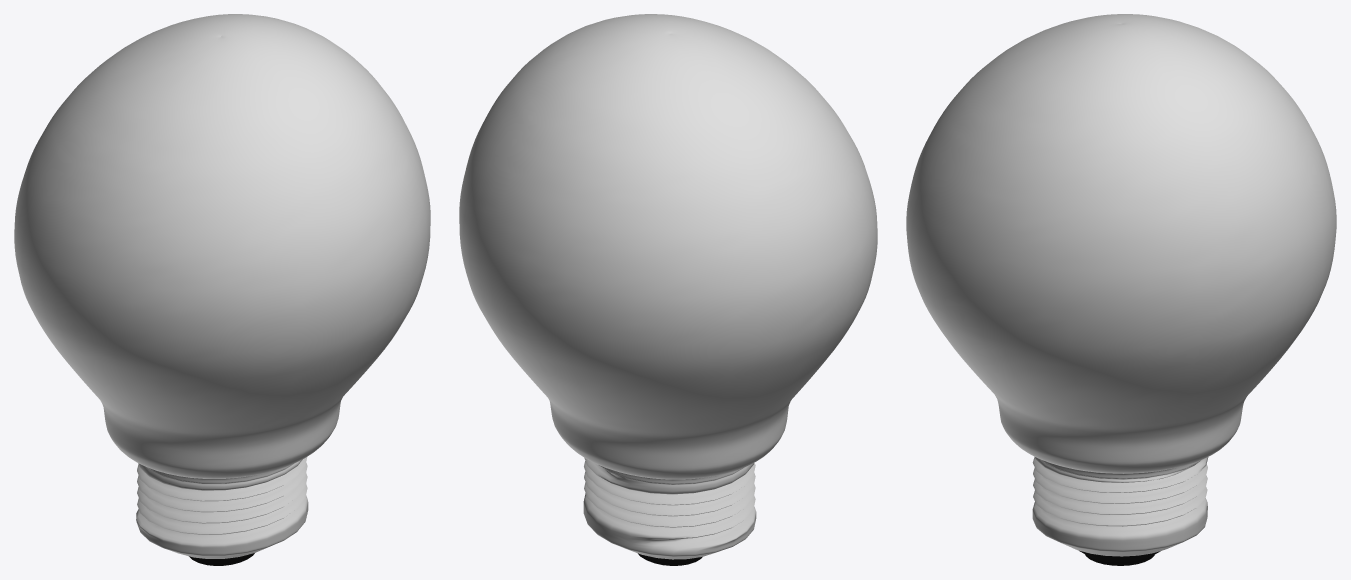
File: Lightbulb (1).glb
The picture shows the model from 3 angles, left to right: view 1: azimuth 30°, elevation 25°; view 2: azimuth 150°, elevation 25°; view 3: azimuth 270°, elevation 25°; orthographic projection. The views are drawn at different scales.
Parts seen in each view (by area): view 1: Lightbulb; view 2: Lightbulb; view 3: Lightbulb.
Boxes of the visible parts, x1,y1,x2,y2 form: Lightbulb: (14, 14, 430, 565); Lightbulb: (459, 14, 877, 565); Lightbulb: (906, 14, 1336, 565).
Size of the model in its own units: 12.25 by 16.88 by 12.33.
Materials: 3 (1 with a texture image).
